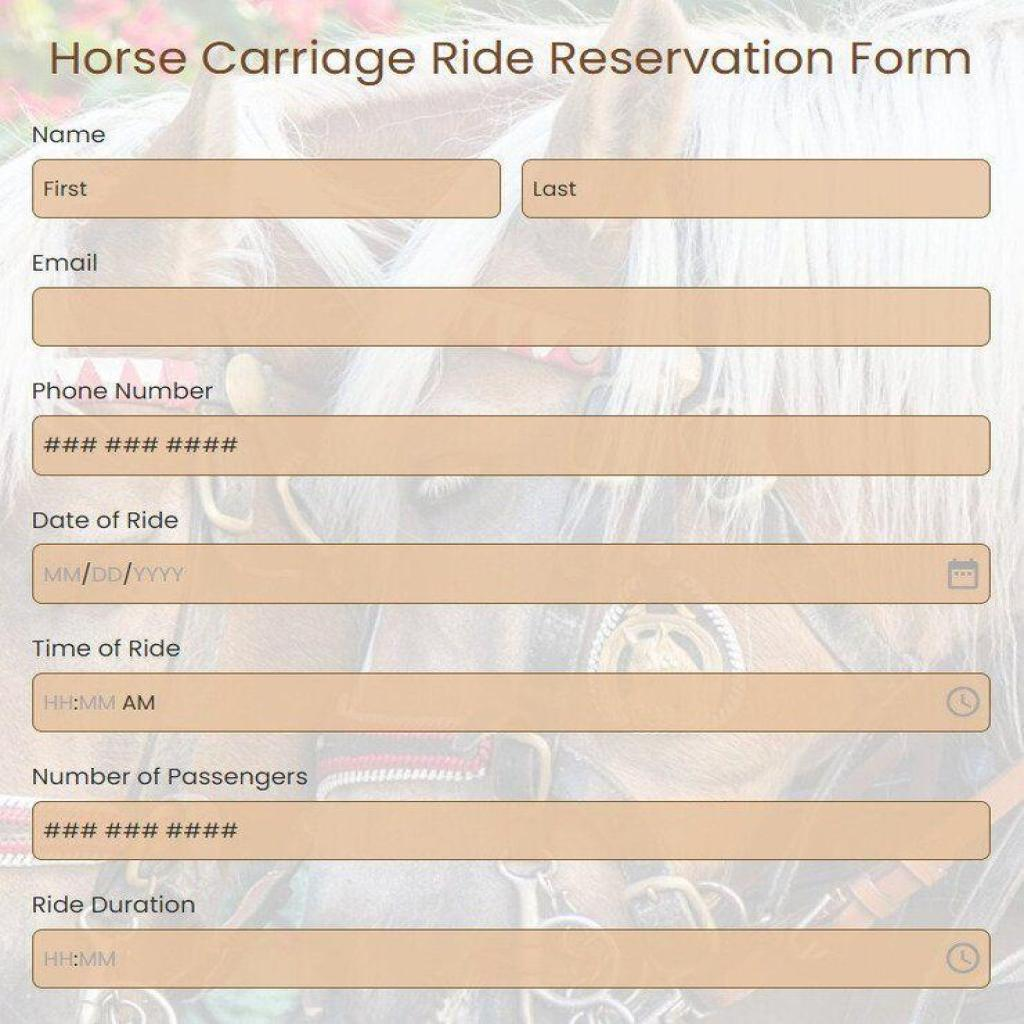input: (33, 671, 991, 734), (32, 927, 991, 989), (32, 544, 989, 605), (32, 416, 993, 476), (30, 800, 991, 860), (33, 286, 992, 344), (33, 157, 500, 220), (520, 160, 991, 218)
label: (28, 767, 311, 788), (30, 373, 220, 404), (30, 503, 190, 532), (29, 891, 201, 916), (30, 638, 187, 656), (29, 124, 112, 149), (32, 253, 108, 273)
